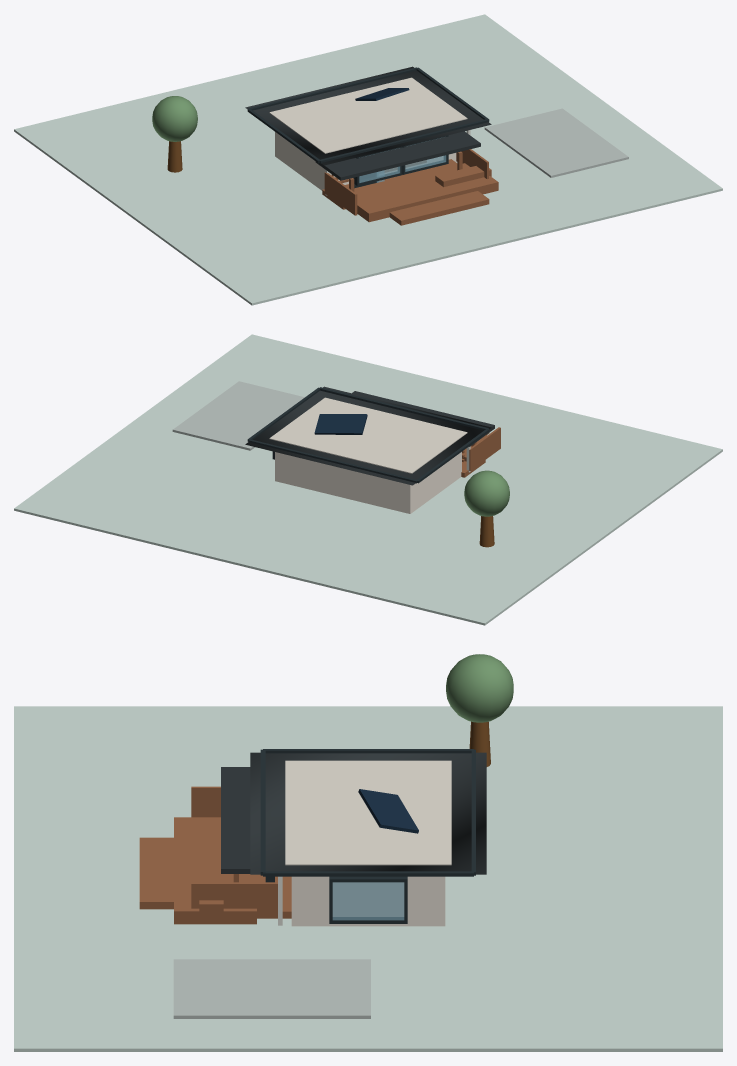
Rendered from generated-shell-pnu-41450-002-yard-porch-hip-warm-stone.meshopt.glb.
The picture shows the model from 3 angles, top to bottom: view 1: azimuth 30°, elevation 25°; view 2: azimuth 150°, elevation 25°; view 3: azimuth 270°, elevation 25°; orthographic projection. The views are drawn at different scales.
Visible parts, largest first — view 1: IfcSite_ServicePreviewBase, IfcSlab_LevelCap_L1, IfcSpace_ParkingPad, IfcRoof_HipRoof, IfcSlab_shell-c1-PNU-41450-002-slab-block-front-deck-1ccdaf6, IfcCovering_DeepPorchCanopy, IfcGeographicElement_GardenTree, IfcSlab_DeckModule, IfcBuildingElementProxy_FloorMass_L1, IfcCovering_PorchRailLeft, IfcCovering_RoofGutterFront, IfcCovering_PorchBench (+2 smaller); view 2: IfcSite_ServicePreviewBase, IfcSlab_LevelCap_L1, IfcBuildingElementProxy_FloorMass_L1, IfcSpace_ParkingPad, IfcRoof_HipRoof, IfcGeographicElement_GardenTree, IfcEnergyConversionDevice_SolarPanel, IfcCovering_PorchRailLeft, IfcCovering_RoofGutterFront, IfcCovering_RoofGutterBack, IfcCovering_DeepPorchCanopy; view 3: IfcSite_ServicePreviewBase, IfcSlab_LevelCap_L1, IfcSpace_ParkingPad, IfcRoof_HipRoof, IfcBuildingElementProxy_FloorMass_L1, IfcSlab_shell-c1-PNU-41450-002-slab-block-front-deck-1ccdaf6, IfcGeographicElement_GardenTree, IfcCovering_DeepPorchCanopy, IfcWindow_Glass, IfcSlab_DeckModule, IfcCovering_PorchRailRight, IfcEnergyConversionDevice_SolarPanel (+5 smaller).
Boxes of the visible parts, x1,y1,x2,y2 form: IfcSite_ServicePreviewBase: (14,14,722,305); IfcSlab_LevelCap_L1: (269,77,467,153); IfcSpace_ParkingPad: (484,108,628,177); IfcRoof_HipRoof: (245,66,491,165); IfcSlab_shell-c1-PNU-41450-002-slab-block-front-deck-1ccdaf6: (354,163,498,222); IfcCovering_DeepPorchCanopy: (315,131,480,180); IfcGeographicElement_GardenTree: (152,96,197,172); IfcSlab_DeckModule: (389,191,489,225); IfcBuildingElementProxy_FloorMass_L1: (275,132,456,190); IfcCovering_PorchRailLeft: (324,172,357,215); IfcCovering_RoofGutterFront: (319,119,488,163); IfcCovering_PorchBench: (435,166,491,187); IfcSite_ServicePreviewBase: (14,334,722,625); IfcSlab_LevelCap_L1: (269,397,467,473); IfcBuildingElementProxy_FloorMass_L1: (275,452,461,513); IfcSpace_ParkingPad: (172,381,304,450); IfcRoof_HipRoof: (245,386,491,485); IfcGeographicElement_GardenTree: (464,470,509,547); IfcEnergyConversionDevice_SolarPanel: (314,414,367,434); IfcCovering_PorchRailLeft: (469,427,500,470); IfcCovering_RoofGutterFront: (319,387,488,430); IfcCovering_RoofGutterBack: (248,439,417,483); IfcCovering_DeepPorchCanopy: (352,391,494,446); IfcSite_ServicePreviewBase: (14,706,722,1051); IfcSlab_LevelCap_L1: (285,760,451,865); IfcSpace_ParkingPad: (173,959,370,1018); IfcRoof_HipRoof: (250,752,486,874); IfcBuildingElementProxy_FloorMass_L1: (291,876,445,926); IfcSlab_shell-c1-PNU-41450-002-slab-block-front-deck-1ccdaf6: (174,817,256,924); IfcGeographicElement_GardenTree: (446,654,513,766); IfcCovering_DeepPorchCanopy: (221,767,250,873); IfcWindow_Glass: (332,882,404,920); IfcSlab_DeckModule: (139,837,173,909); IfcCovering_PorchRailRight: (191,882,277,914); IfcEnergyConversionDevice_SolarPanel: (358,789,418,833).
Bounding box in the file's own units: 32 × 4.96 × 28.
